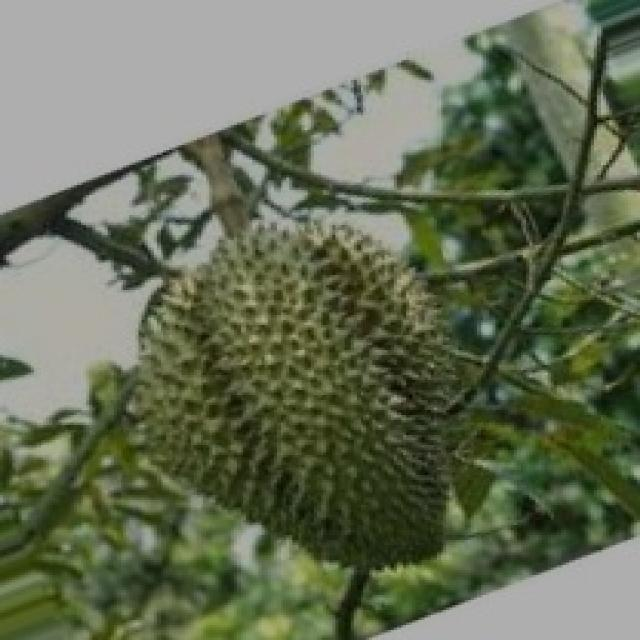fruit: (74, 180, 501, 602)
